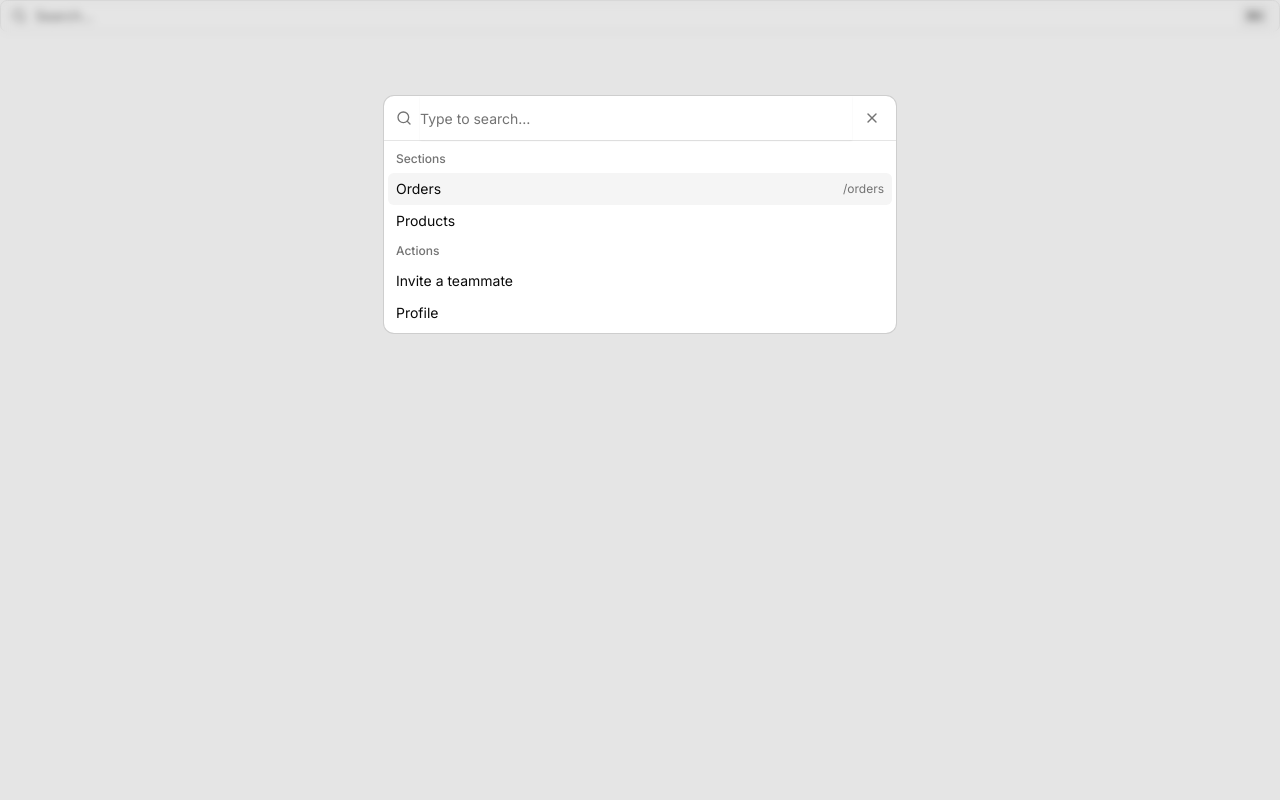
Scenario: GlobalSearch filtering › shows the empty label when nothing matches
In the dropdown: [636, 118] box x1=420 y1=96 x2=852 y2=140, type "nothing here"
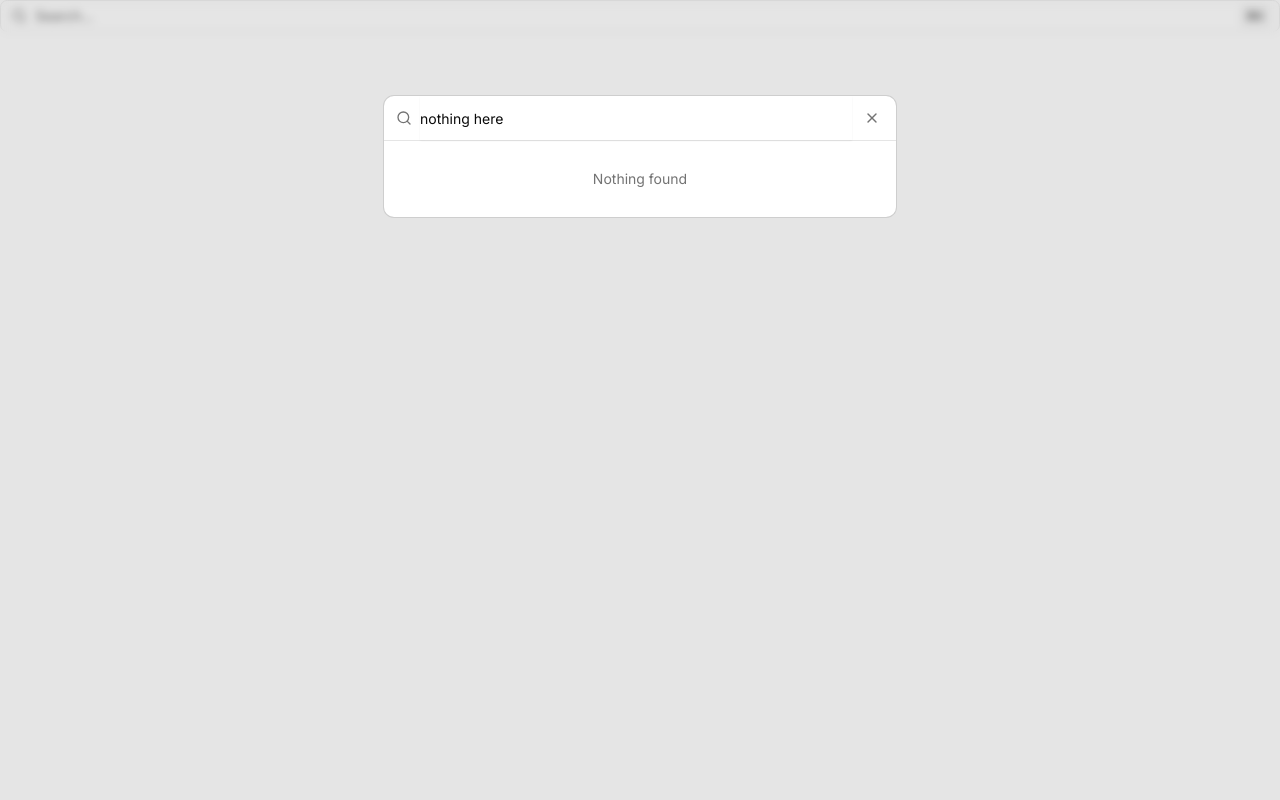
Expected: no options are shown
Expected: the text "Nothing found" is shown, x1=593 y1=170 x2=687 y2=187
